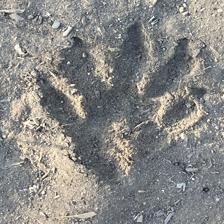puma: (95, 105, 166, 170), (43, 61, 110, 124)
